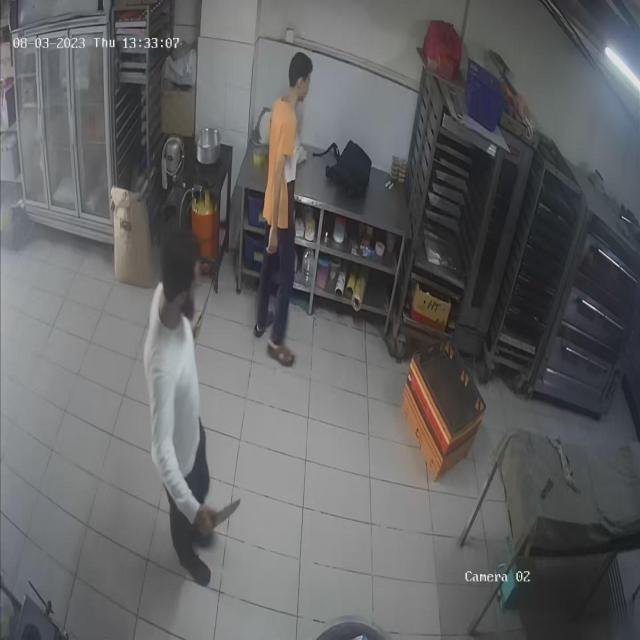Knife: (203, 487, 251, 535)
